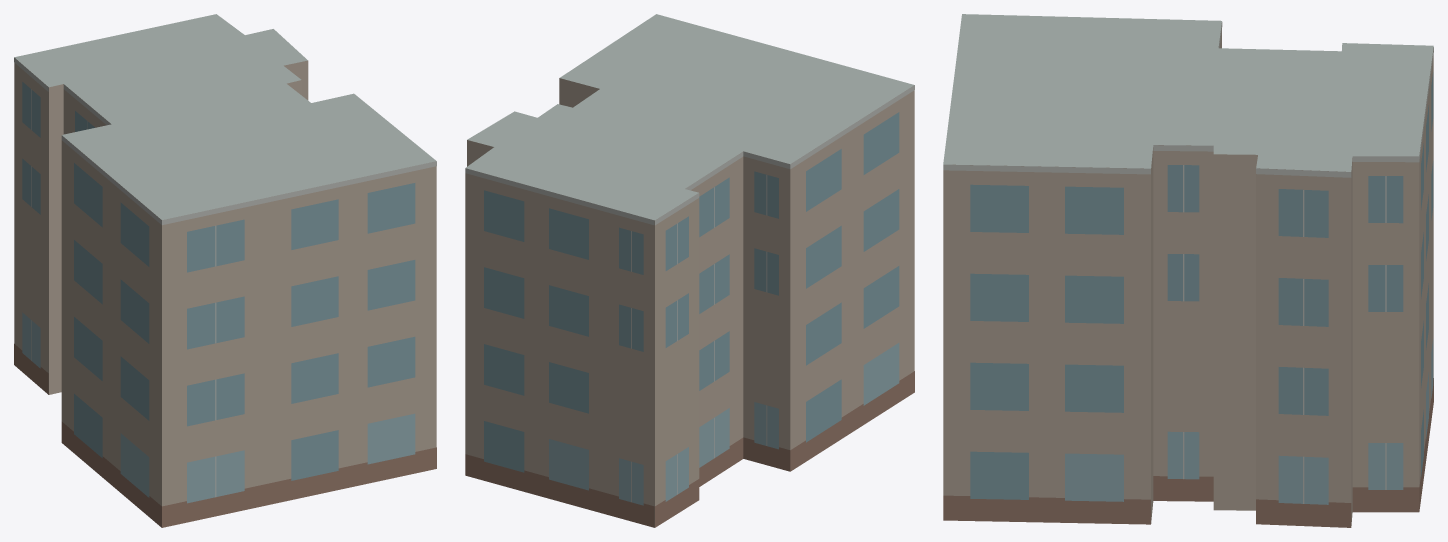
The model's file is survey-upis-32756771.glb.
3 views of the same model, side by side, from view 1: azimuth 30°, elevation 25°; view 2: azimuth 150°, elevation 25°; view 3: azimuth 270°, elevation 25° (orthographic). The views are drawn at different scales.
Parts seen in each view (by area): view 1: survey-upis-32756771.tmp; view 2: survey-upis-32756771.tmp; view 3: survey-upis-32756771.tmp.
Boxes of the visible parts, x1=… form: survey-upis-32756771.tmp: x1=14, y1=14, x2=436, y2=527; survey-upis-32756771.tmp: x1=465, y1=14, x2=914, y2=527; survey-upis-32756771.tmp: x1=943, y1=14, x2=1433, y2=527.
Size of the model in its own units: 14.19 by 14.89 by 18.62.
